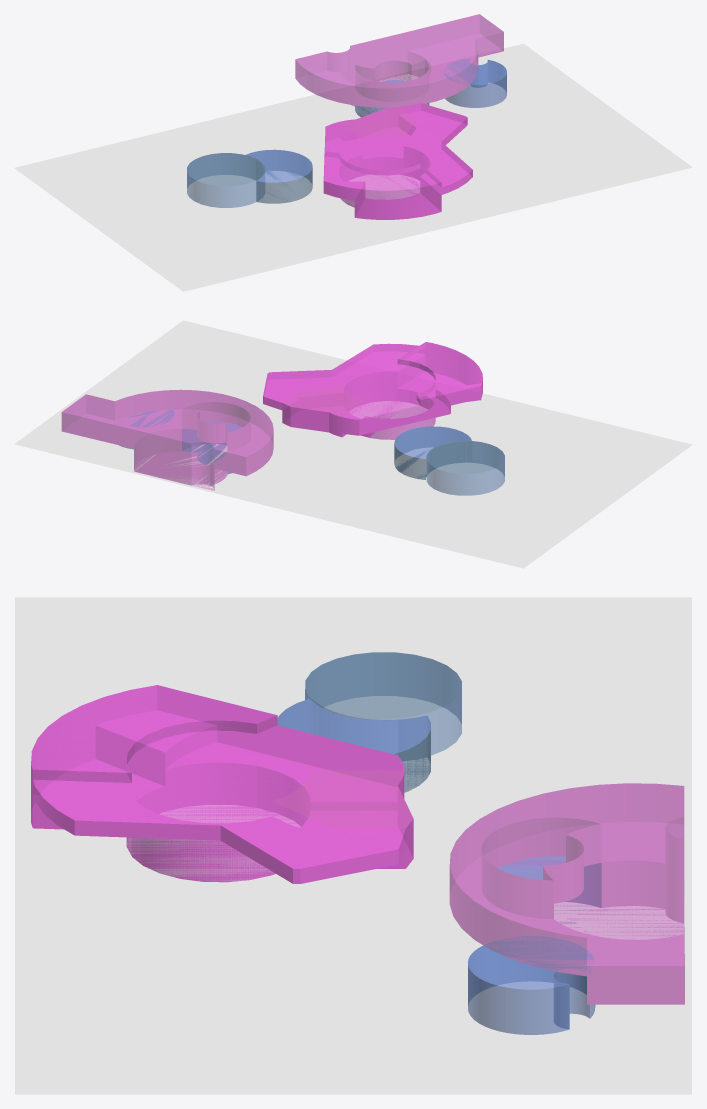
The picture shows the model from 3 angles, top to bottom: view 1: azimuth 30°, elevation 25°; view 2: azimuth 150°, elevation 25°; view 3: azimuth 270°, elevation 25°; orthographic projection. The views are drawn at different scales.
Visible parts, largest first — view 1: image_0, group_0 (×3), group_3, SketchUp (×3), group_1 (×2), group_2 (×2); view 2: image_0, group_0 (×3), group_3, SketchUp (×3), group_1 (×2), group_2 (×2); view 3: image_0, group_0 (×3), group_3, SketchUp (×4), group_1 (×2), group_2 (×2).
Part boxes in pixels (left/top/right/bottom): image_0: left=14, top=43, right=692, bottom=291; group_0 (×3): left=323, top=103, right=472, bottom=219; group_3: left=295, top=14, right=503, bottom=107; SketchUp (×3): left=444, top=59, right=630, bottom=131; group_1 (×2): left=187, top=153, right=265, bottom=207; group_2 (×2): left=246, top=149, right=312, bottom=203; image_0: left=14, top=320, right=692, bottom=568; group_0 (×3): left=263, top=342, right=482, bottom=439; group_3: left=61, top=389, right=273, bottom=490; SketchUp (×3): left=55, top=365, right=242, bottom=473; group_1 (×2): left=426, top=440, right=504, bottom=495; group_2 (×2): left=394, top=426, right=471, bottom=479; image_0: left=15, top=597, right=691, bottom=1094; group_0 (×3): left=31, top=685, right=413, bottom=883; group_3: left=449, top=783, right=684, bottom=1004; SketchUp (×4): left=259, top=856, right=601, bottom=1094; group_1 (×2): left=305, top=652, right=461, bottom=755; group_2 (×2): left=277, top=698, right=430, bottom=792.
Bounding box in the file's own units: 159 × 91.33 × 12.75.
